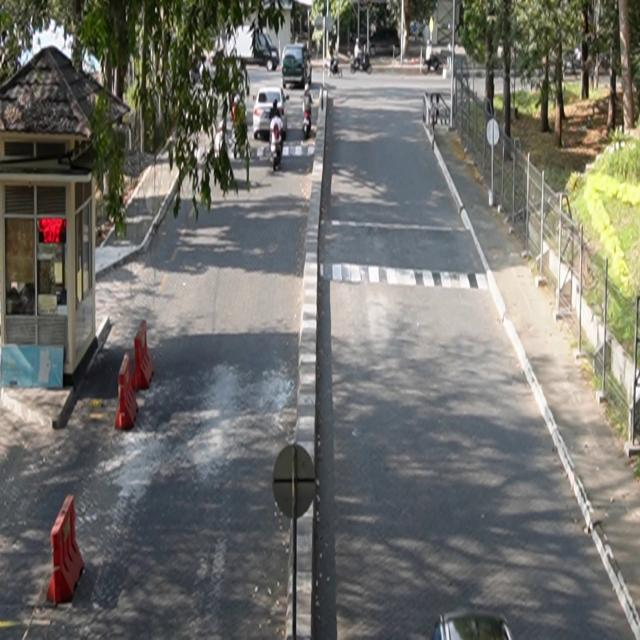car: (254, 87, 290, 141), (282, 44, 313, 89)
